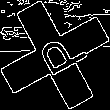P_SW: (24, 26, 86, 84)
